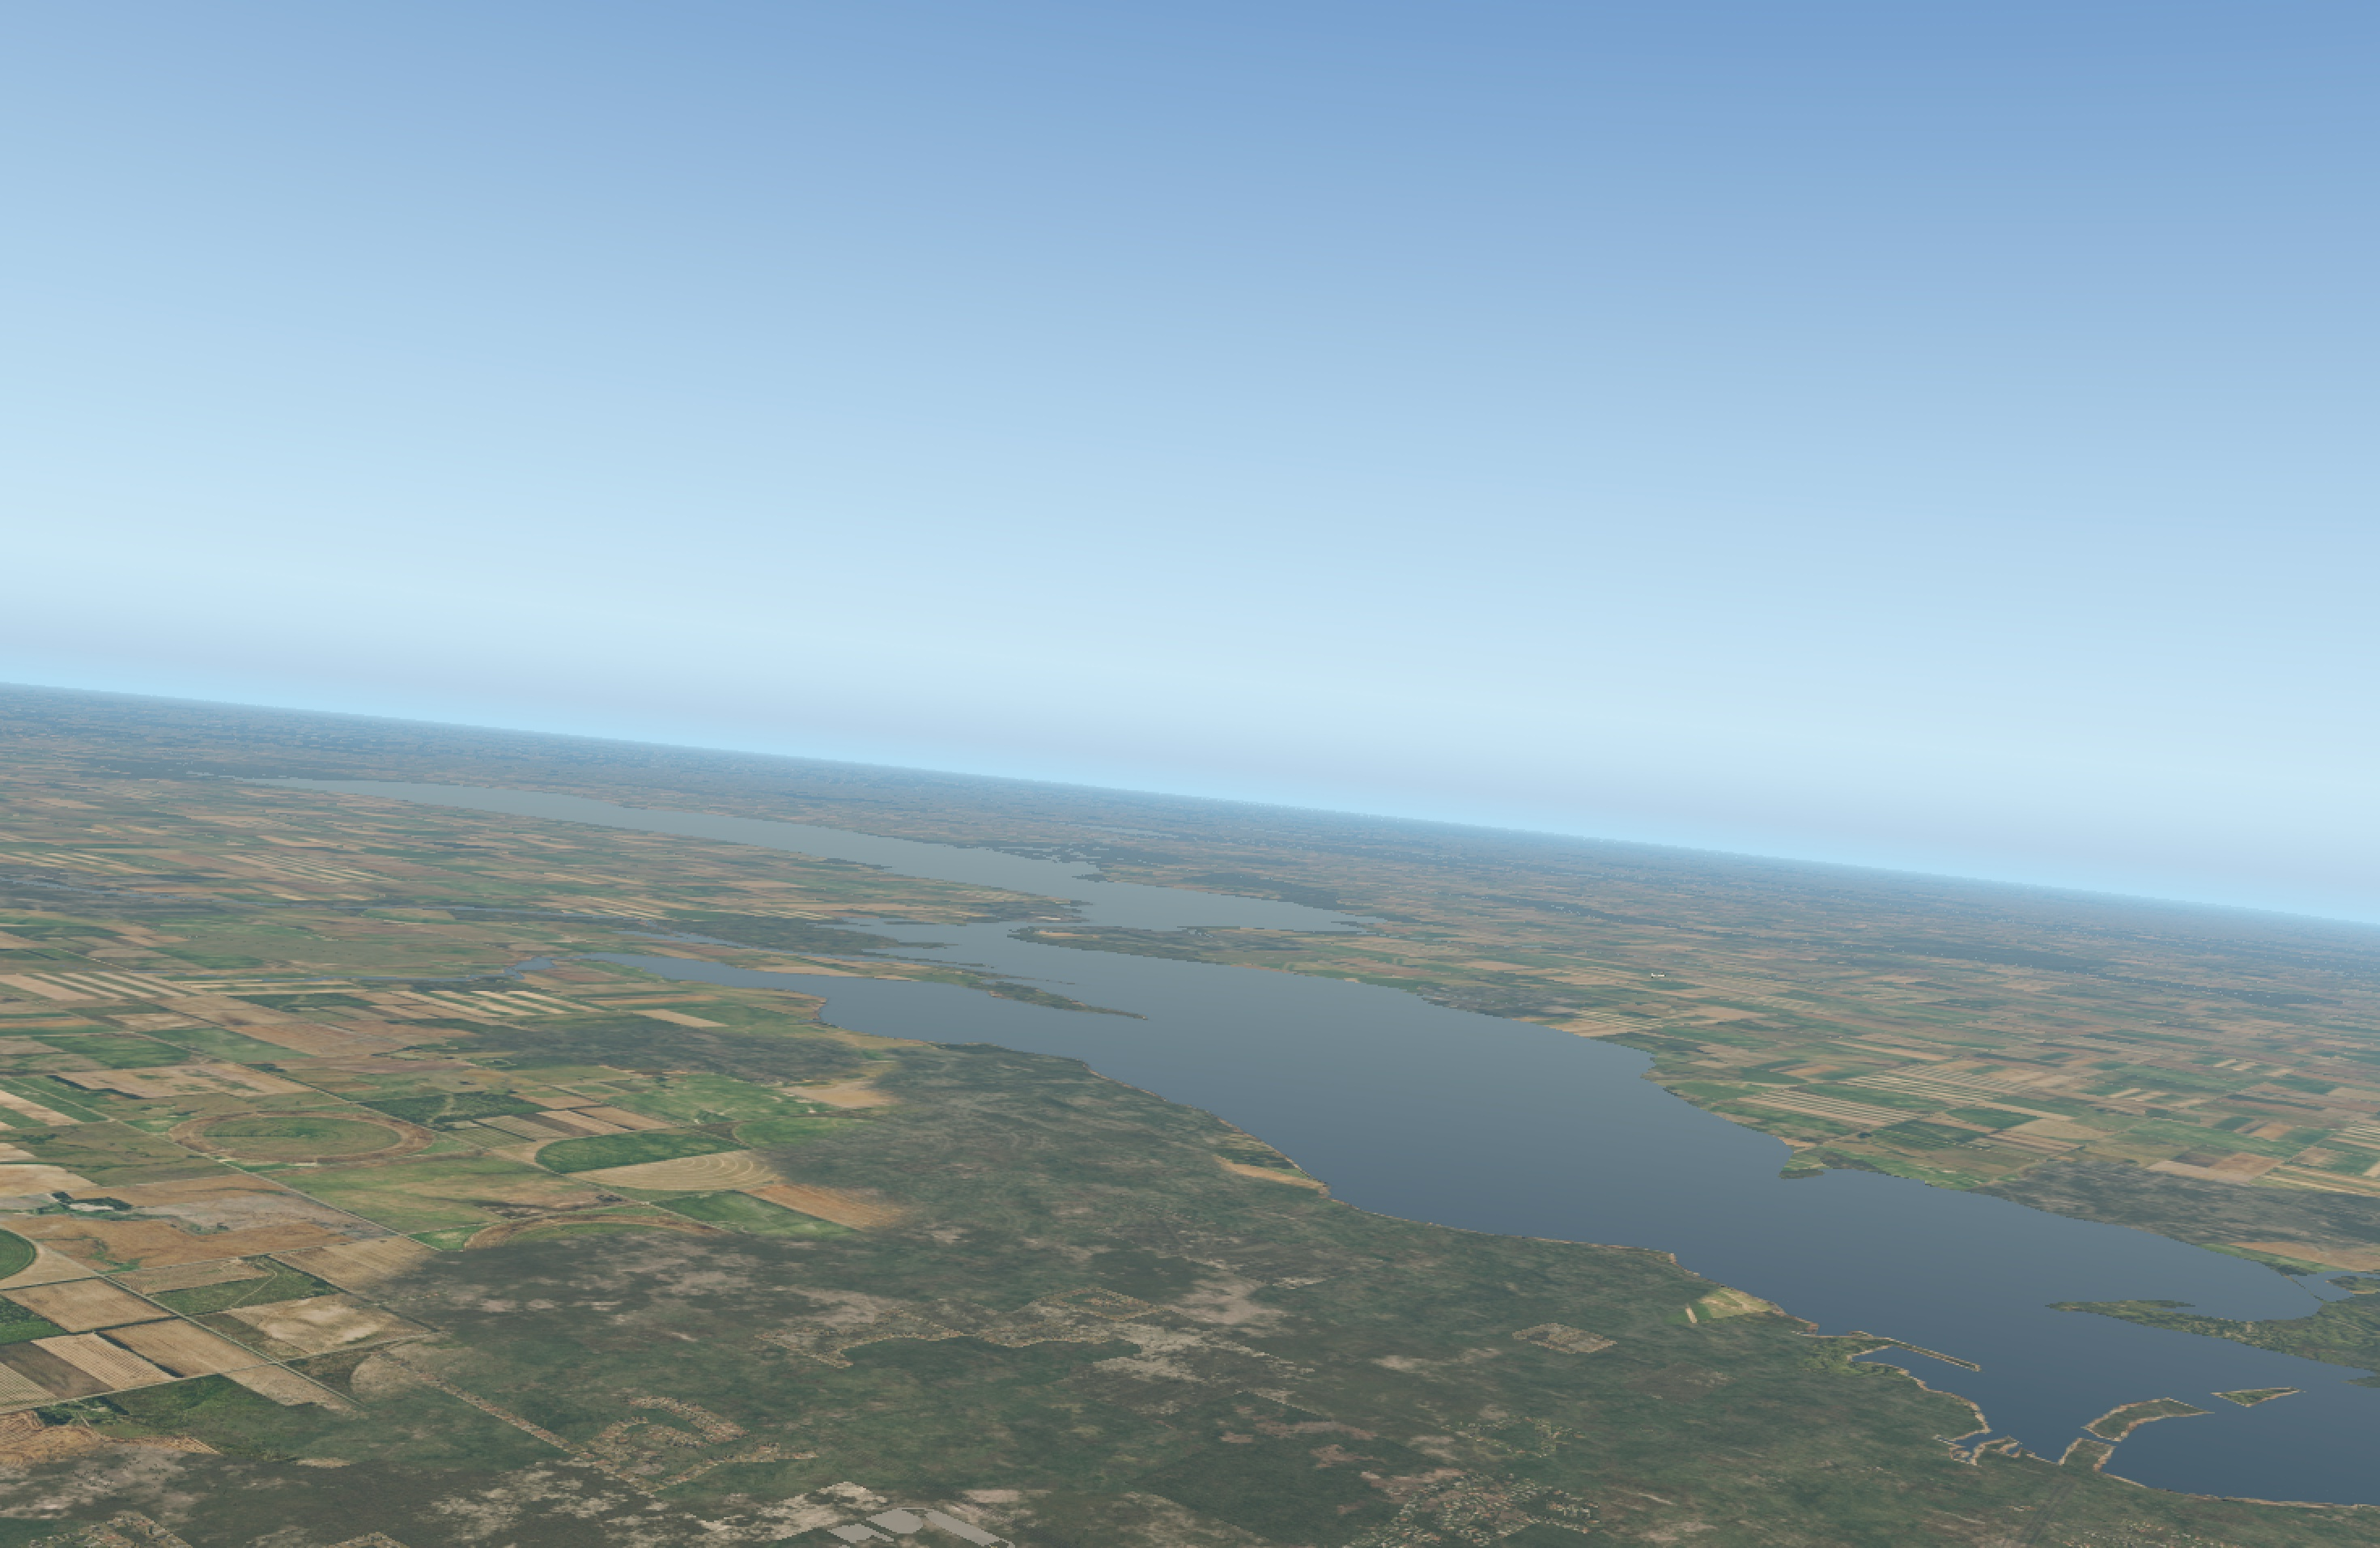aircraft: (1655, 974, 1669, 979)
